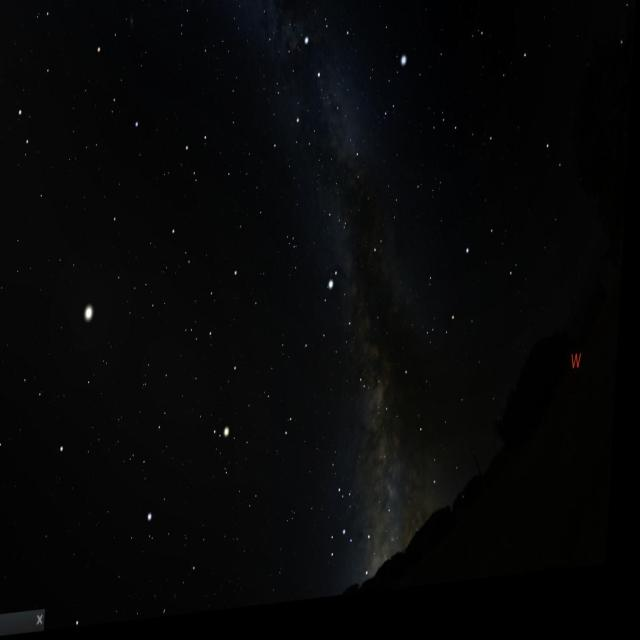aquila: (299, 276, 386, 415)
cygnus: (294, 27, 369, 201)
lyra: (379, 56, 414, 151)
